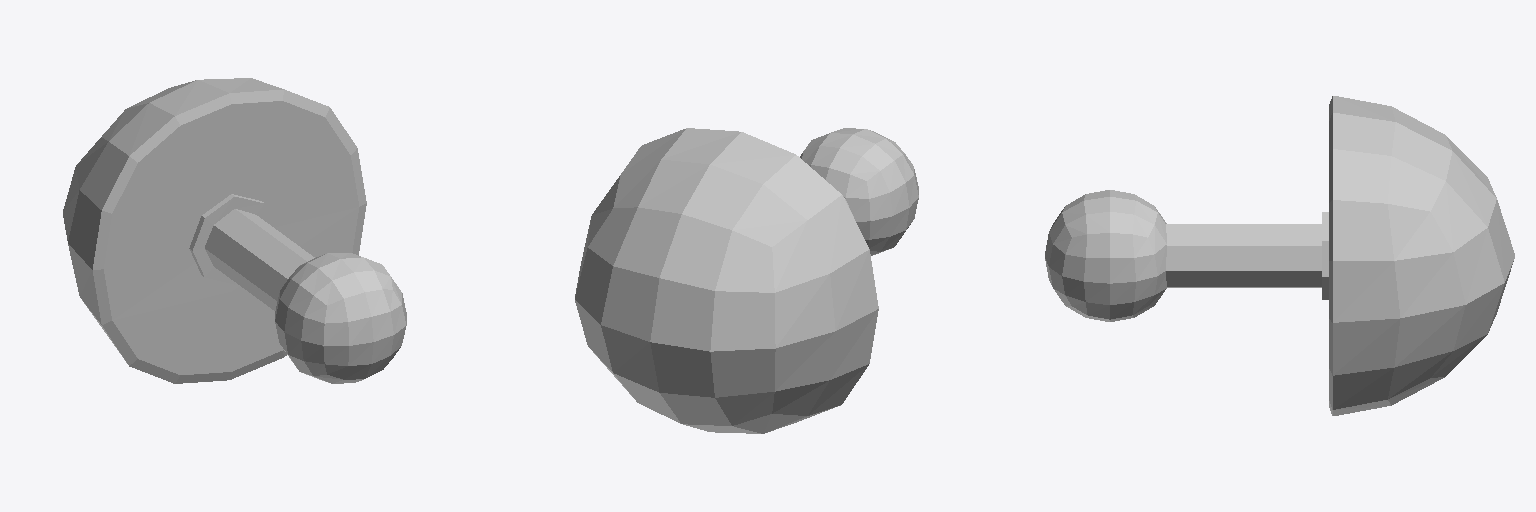
File: earth.obj
3 views of the same model, side by side, from view 1: azimuth 30°, elevation 25°; view 2: azimuth 150°, elevation 25°; view 3: azimuth 270°, elevation 25° (orthographic).
Bounding box in the file's own units: 0.0617 × 0.0617 × 0.0918.